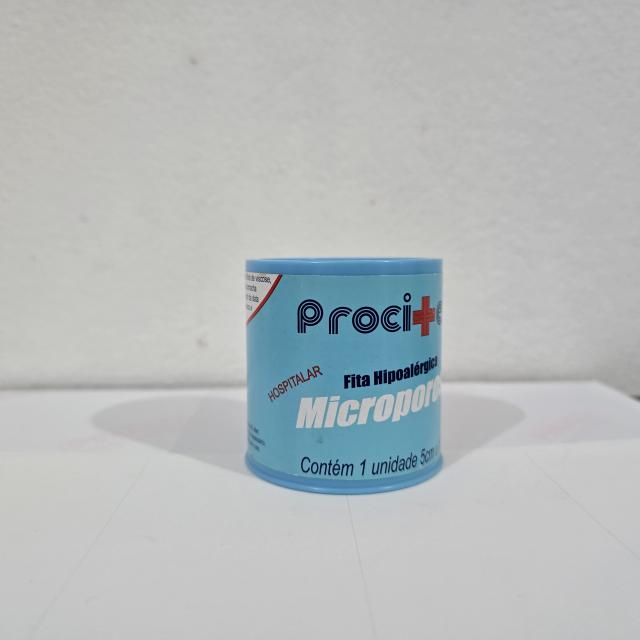procitex: (240, 252, 447, 499)
